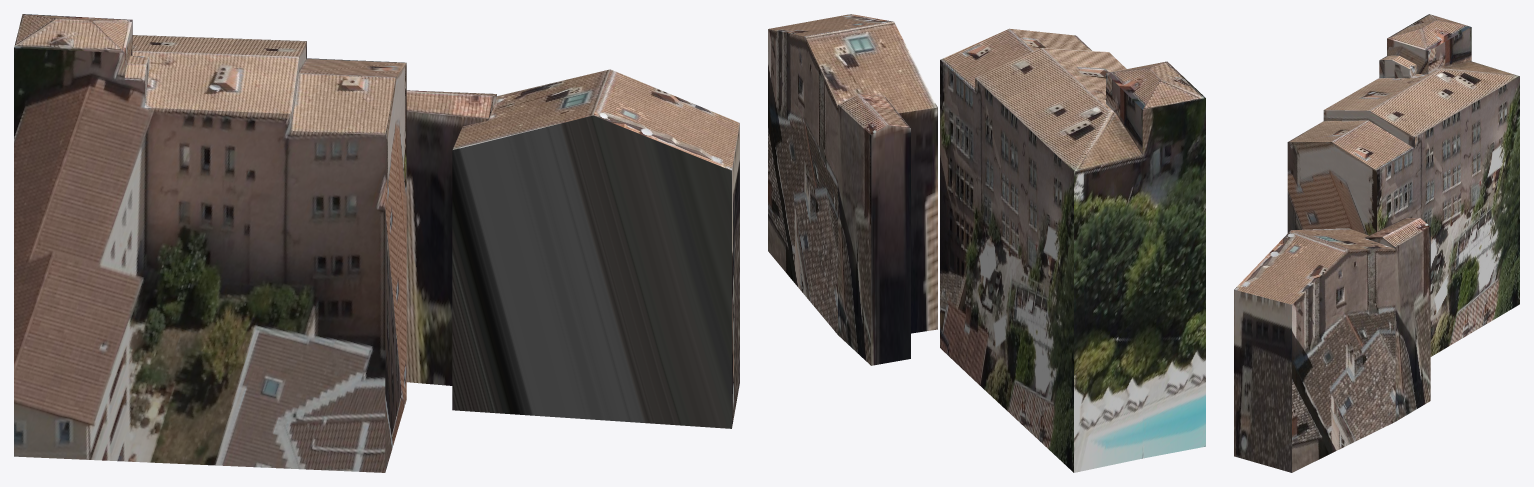
3 views of the same model, side by side, from view 1: azimuth 30°, elevation 25°; view 2: azimuth 150°, elevation 25°; view 3: azimuth 270°, elevation 25° (orthographic). The views are drawn at different scales.
Parts seen in each view (by area): view 1: Z_UP; view 2: Z_UP; view 3: Z_UP.
Boxes of the visible parts, x1=… form: Z_UP: x1=14, y1=14, x2=739, y2=472; Z_UP: x1=768, y1=14, x2=1205, y2=472; Z_UP: x1=1234, y1=14, x2=1519, y2=472.
Bounding box in the file's own units: 46.11 × 30.03 × 28.54.
2 materials, 1 textured.
